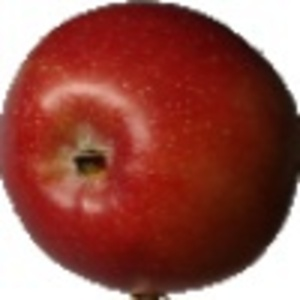maçã braeburn: (3, 4, 298, 289)
